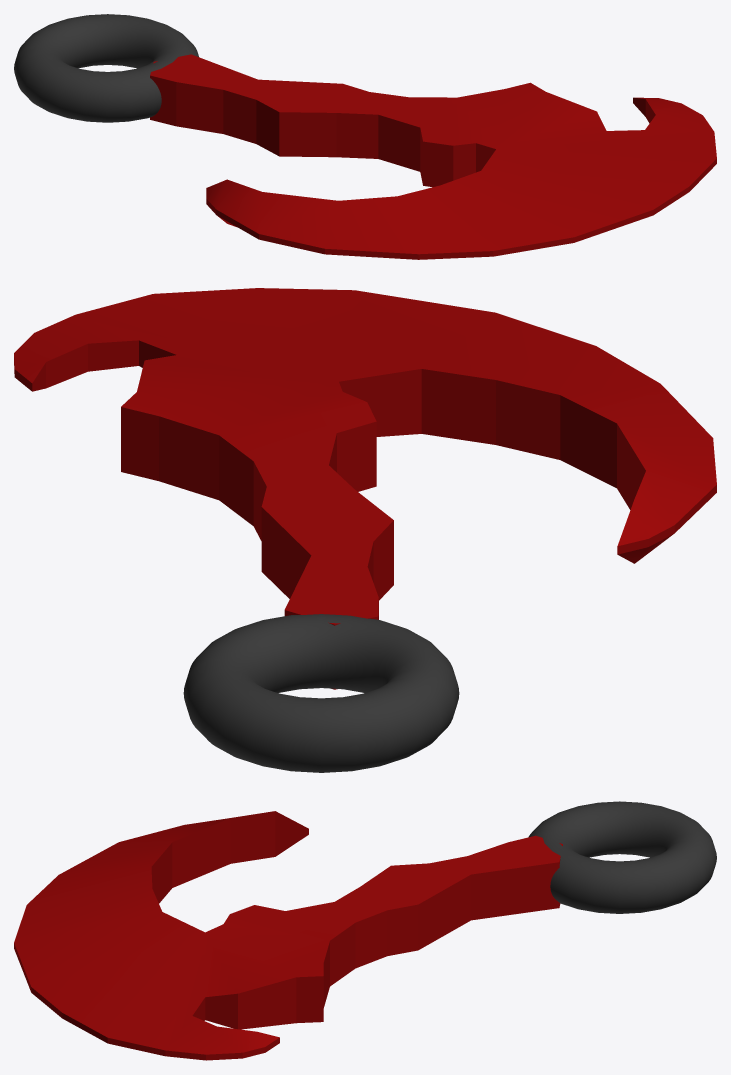
The model's file is hook.FBX.
The picture shows the model from 3 angles, top to bottom: view 1: azimuth 30°, elevation 25°; view 2: azimuth 150°, elevation 25°; view 3: azimuth 270°, elevation 25°; orthographic projection. The views are drawn at different scales.
Parts seen in each view (by area): view 1: Line001, Torus001; view 2: Line001, Torus001; view 3: Line001, Torus001.
Part boxes in pixels (left/top/right/bottom): Line001: left=150, top=54, right=716, bottom=259; Torus001: left=14, top=14, right=198, bottom=122; Line001: left=14, top=288, right=716, bottom=689; Torus001: left=183, top=614, right=459, bottom=772; Line001: left=14, top=811, right=562, bottom=1060; Torus001: left=528, top=801, right=716, bottom=913.
Size of the model in its own units: 281 by 26 by 347.
